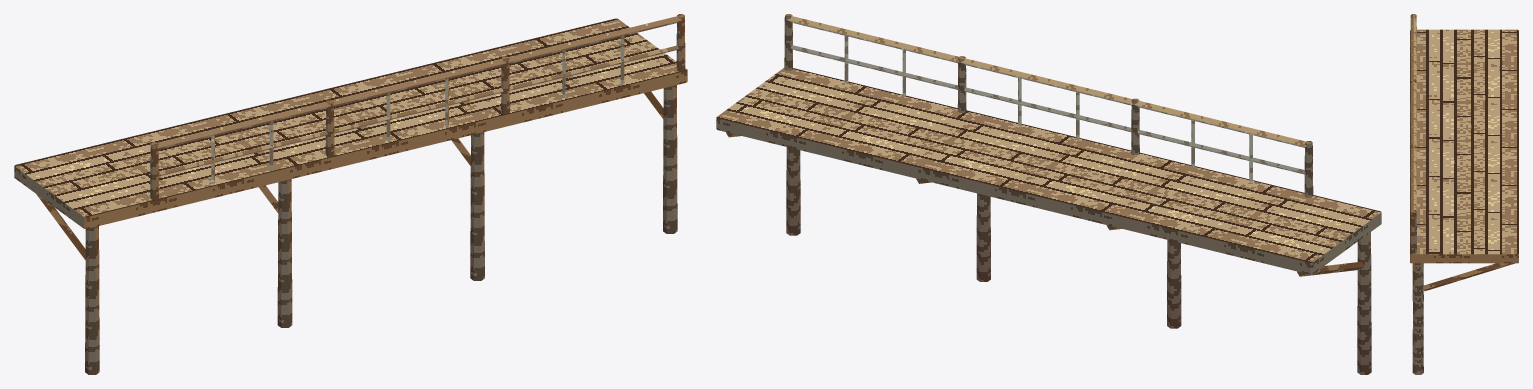
The model's file is wtown.gallery__west_stair.glb.
3 views of the same model, side by side, from view 1: azimuth 30°, elevation 25°; view 2: azimuth 150°, elevation 25°; view 3: azimuth 270°, elevation 25° (orthographic). The views are drawn at different scales.
Visible parts, largest first — view 1: kit_deck, kit_railing, kit_posts, kit_braces; view 2: kit_deck, kit_railing, kit_posts, kit_braces; view 3: kit_deck, kit_railing, kit_posts, kit_braces.
Part boxes in pixels (x1,y1,x2,y2): kit_deck: [14, 18, 687, 228]; kit_railing: [150, 14, 685, 199]; kit_posts: [85, 85, 677, 374]; kit_braces: [36, 91, 663, 259]; kit_deck: [716, 68, 1381, 274]; kit_railing: [784, 14, 1313, 197]; kit_posts: [786, 147, 1371, 374]; kit_braces: [726, 132, 1364, 276]; kit_deck: [1410, 29, 1518, 263]; kit_railing: [1410, 14, 1416, 253]; kit_posts: [1412, 263, 1423, 374]; kit_braces: [1423, 263, 1514, 291].
Size of the model in its own units: 11.72 by 4.01 by 2.4.
Materials: 4 (4 with a texture image).
